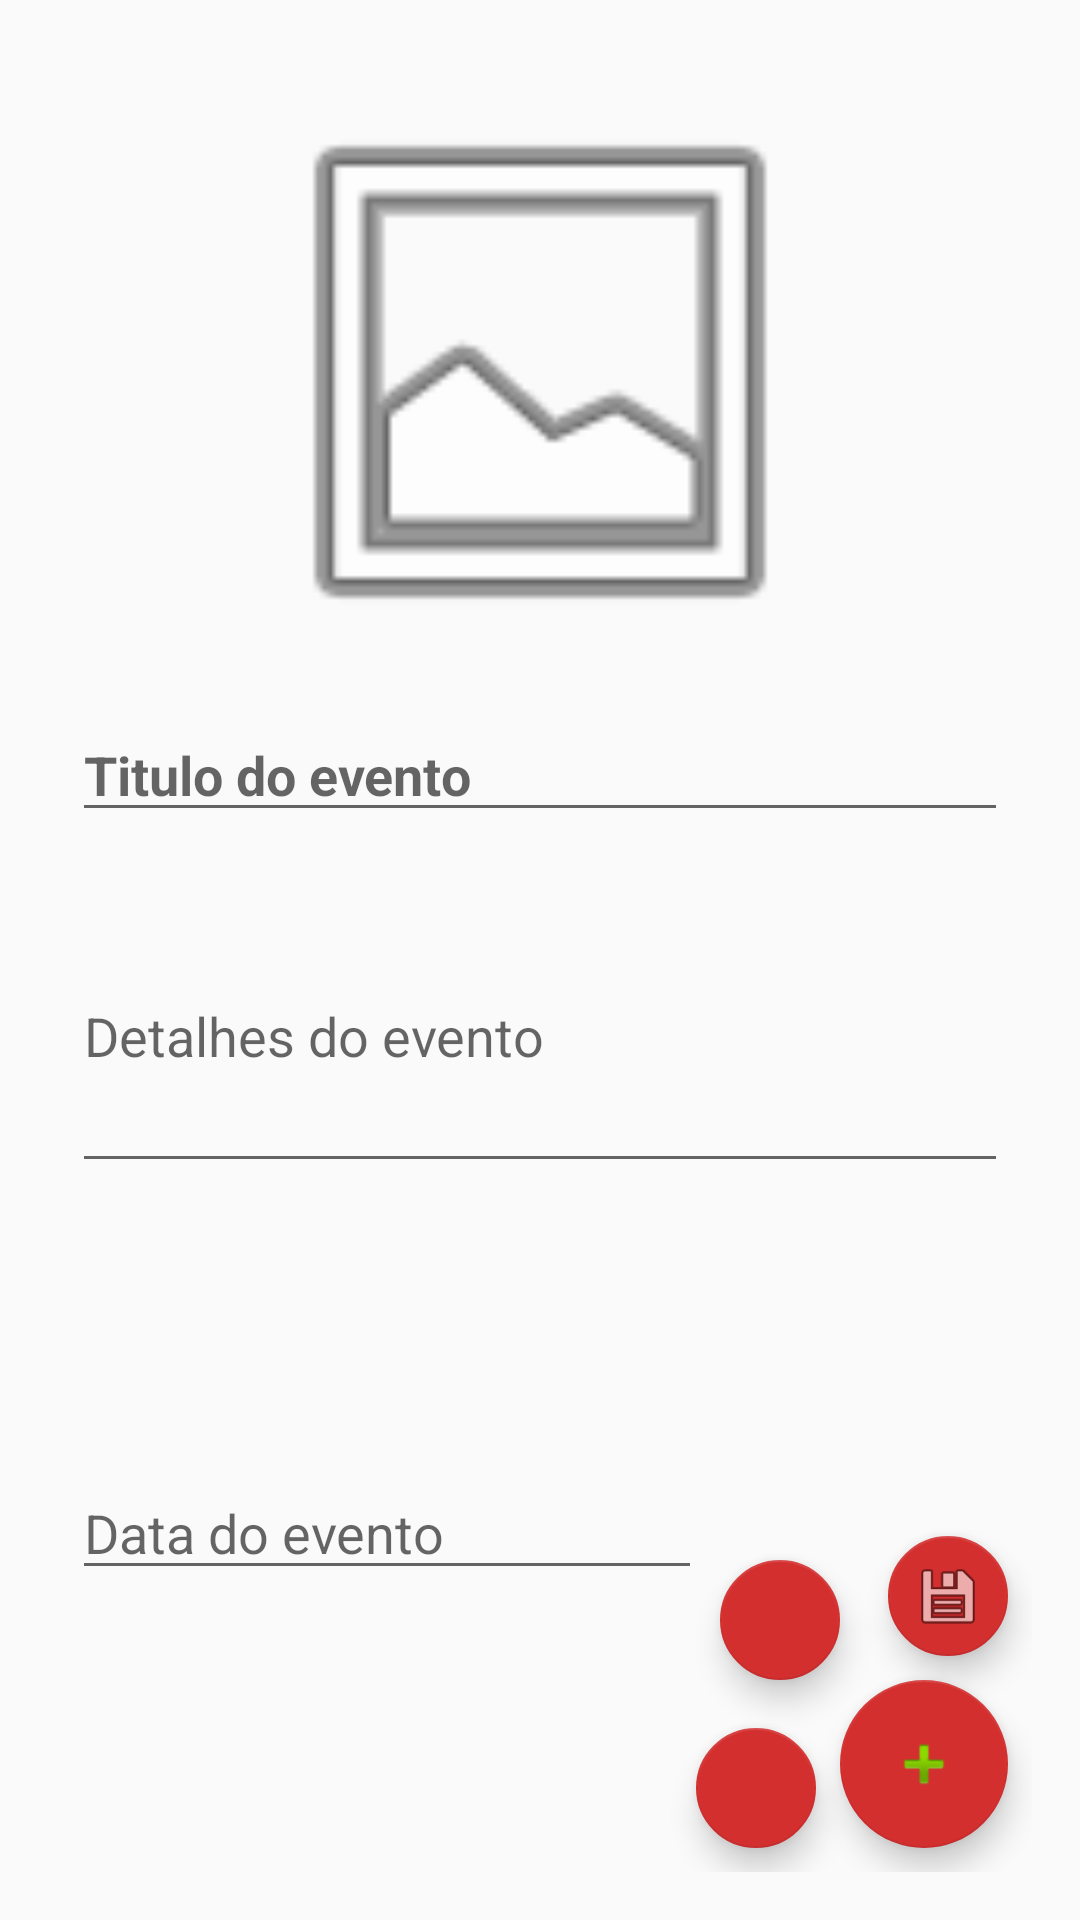

Icons on this 1080×1920 Android screen, each with its box as (x1, y1, x2, y2):
add: (840, 1680, 1008, 1848)
save: (888, 1536, 1008, 1656)
